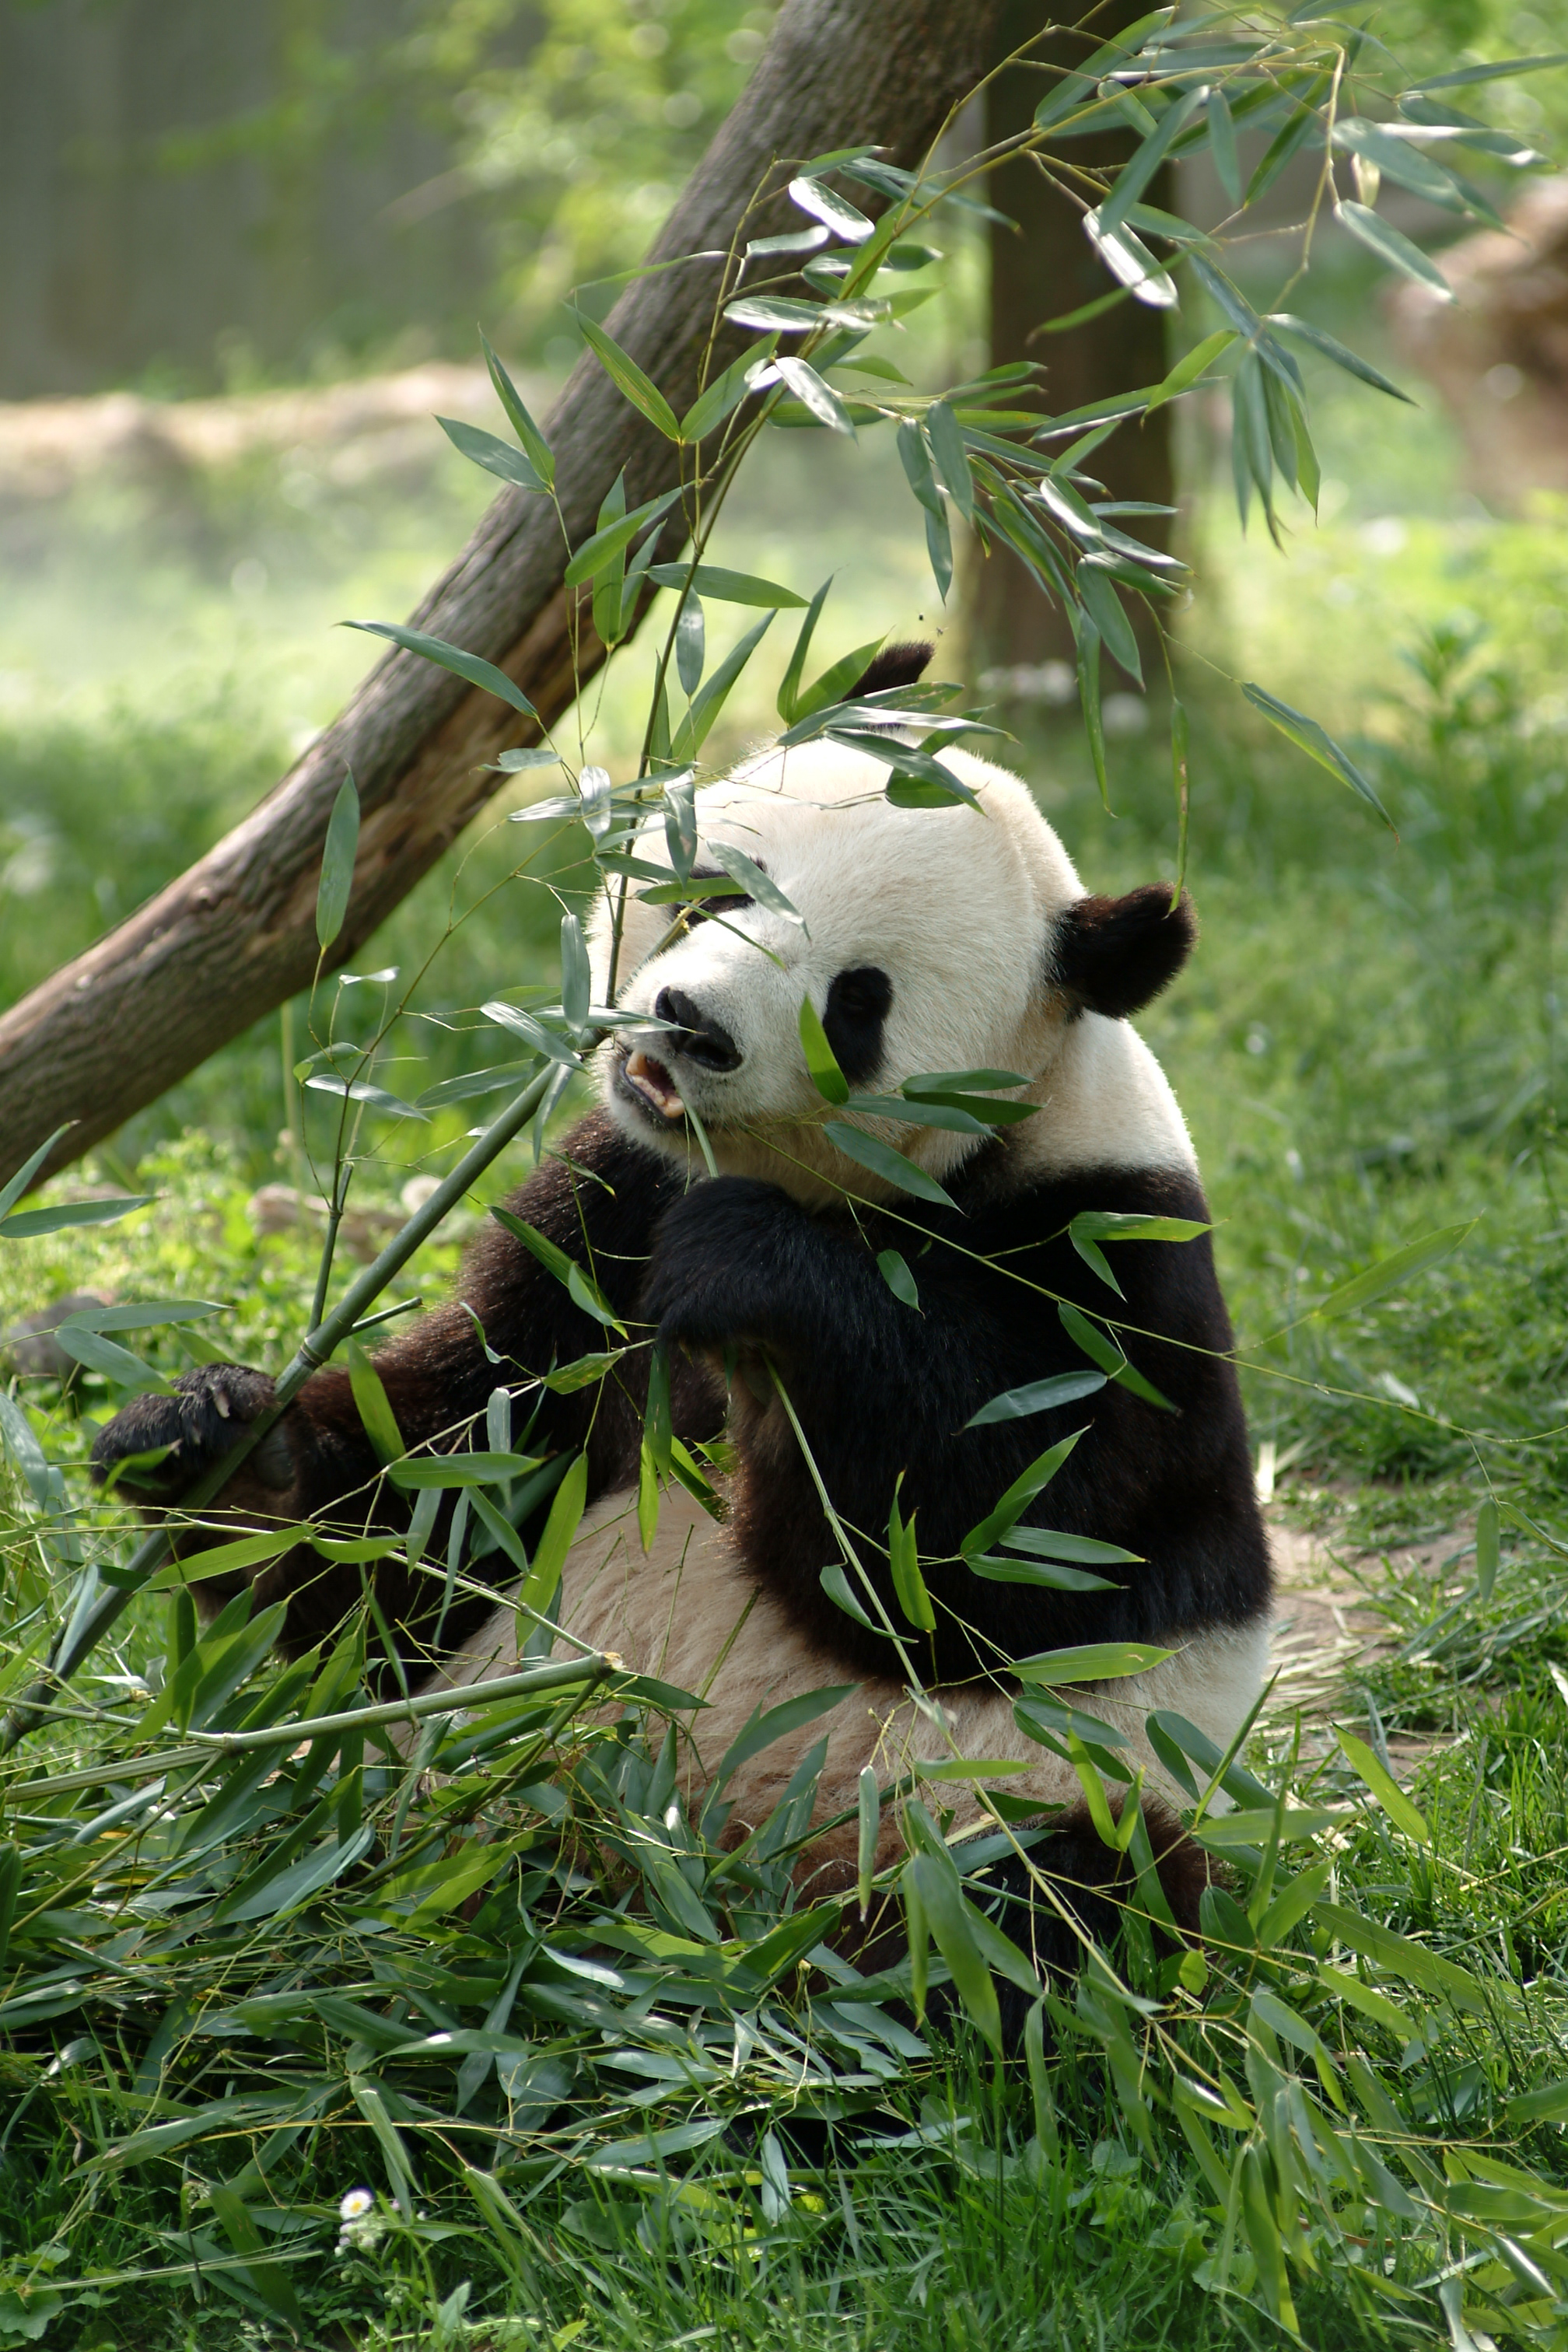panda: (285, 705, 1358, 1984)
